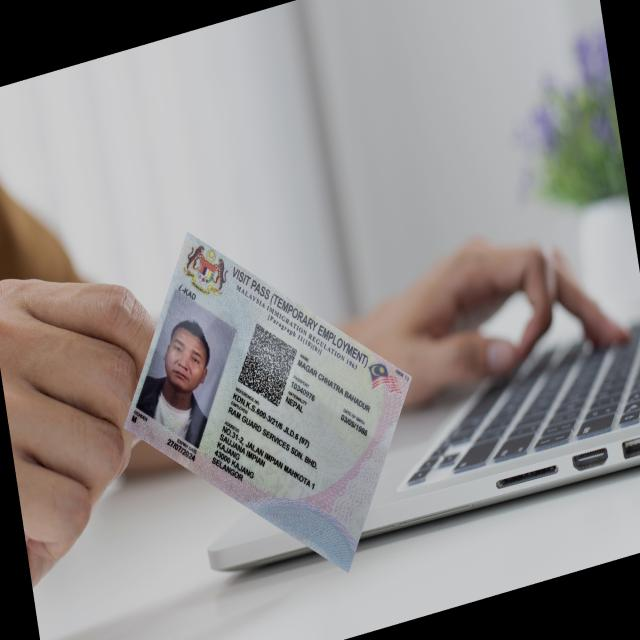ikad-temp: (123, 230, 413, 574)
